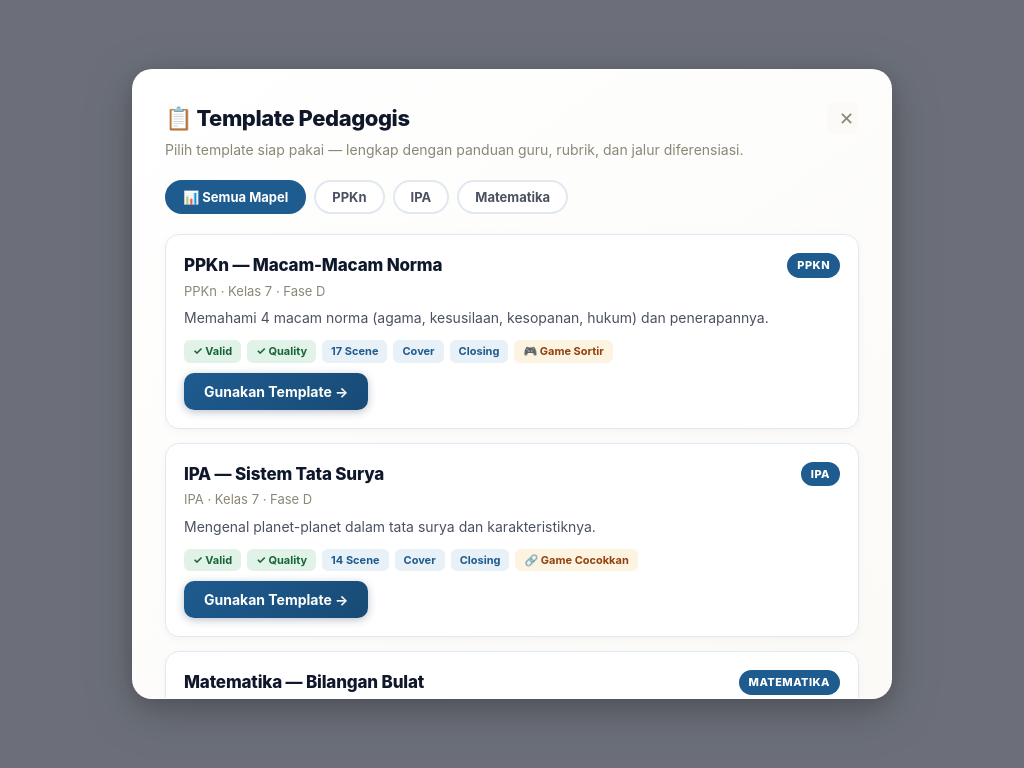
it: PATCH A — Connect + Overwrite + Fit + Polish › 5. apply on project with content shows confirm
Click the button with test id "template-apply-tpl-ppkn-norma" at x=276, y=391, box x1=184 y1=373 x2=368 y2=410
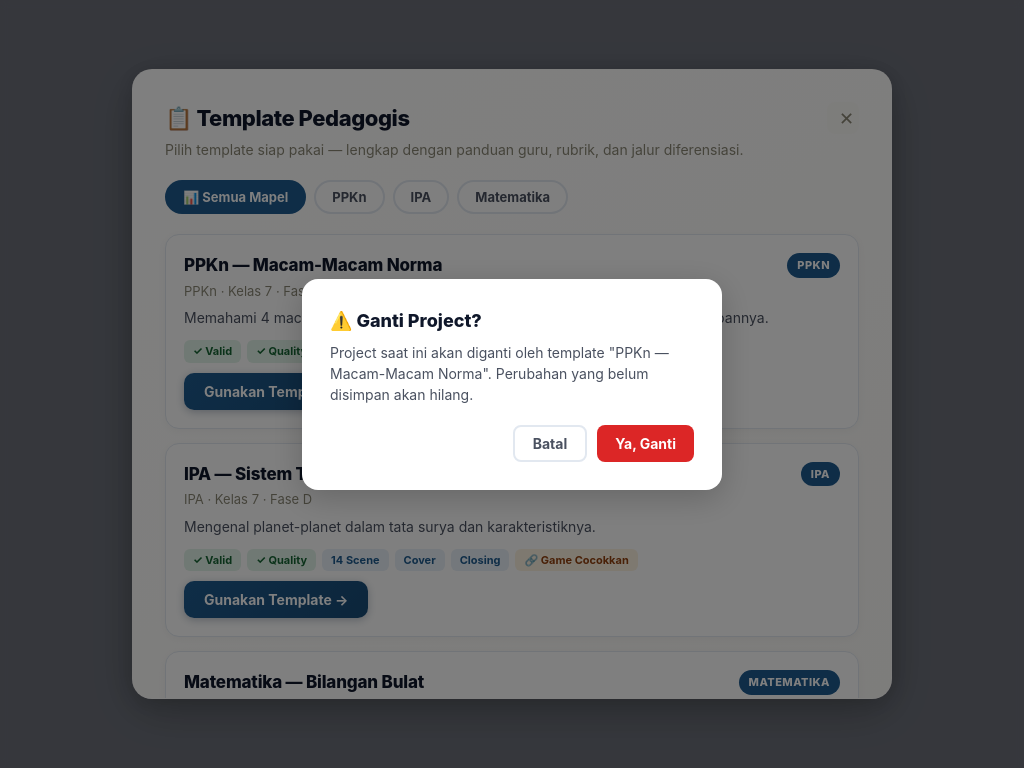
Expected: the element with test id "overwrite-confirm" is shown
